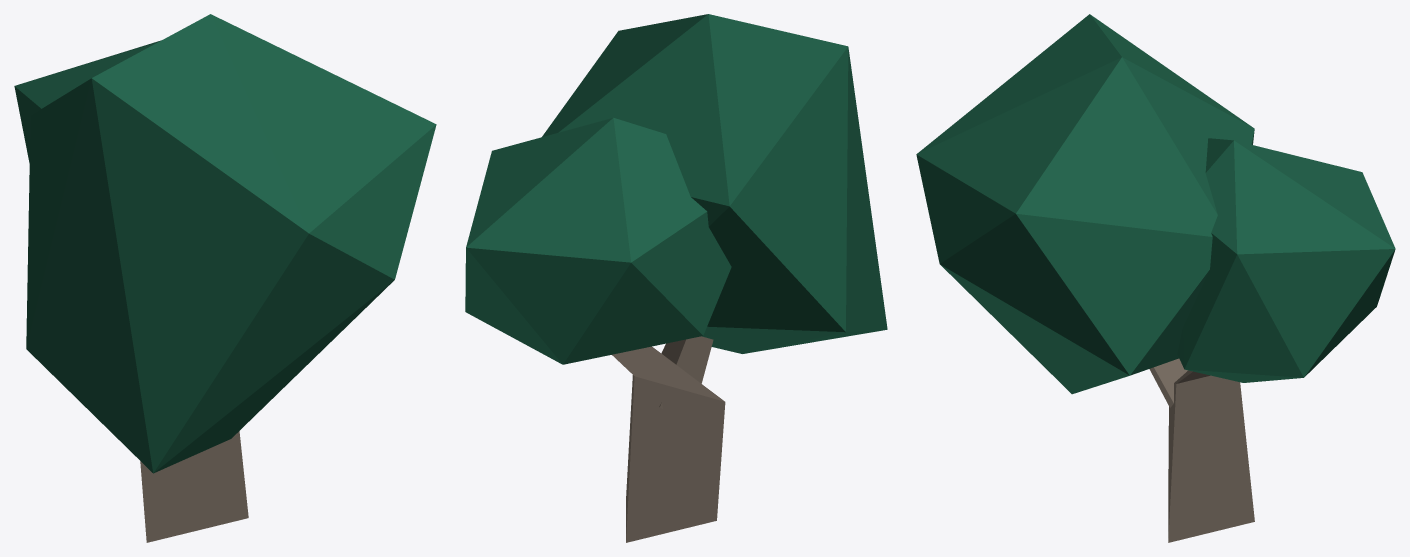
The model's file is barrier_tree_2.fbx.
3 views of the same model, side by side, from view 1: azimuth 30°, elevation 25°; view 2: azimuth 150°, elevation 25°; view 3: azimuth 270°, elevation 25° (orthographic). The views are drawn at different scales.
Visible parts, largest first — view 1: tree_2; view 2: tree_2; view 3: tree_2.
Part boxes in pixels (x1=…): tree_2: x1=14, y1=14, x2=436, y2=542; tree_2: x1=465, y1=14, x2=887, y2=542; tree_2: x1=916, y1=14, x2=1395, y2=542.
Bounding box in the file's own units: 358 × 503 × 476.
